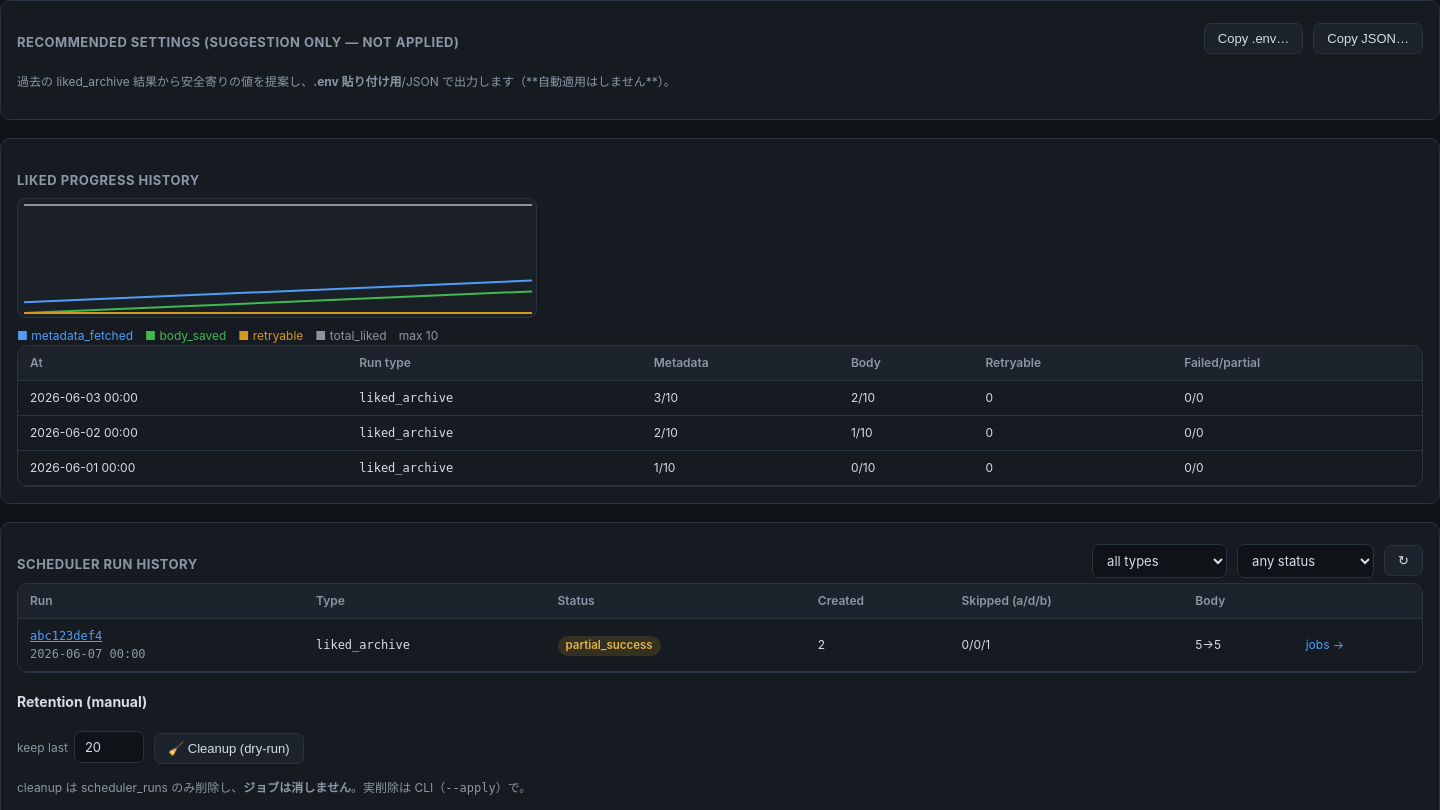
Test: Phase 7F scheduler history graph + export › cleanup dry-run reports it does not delete jobs
Expected: the heading "Retention (manual)" is shown, x1=17 y1=693 x2=147 y2=710
Click the button "🧹 Cleanup (dry-run)".
click(229, 749)  # box x1=154 y1=733 x2=304 y2=764
(page scrolled)
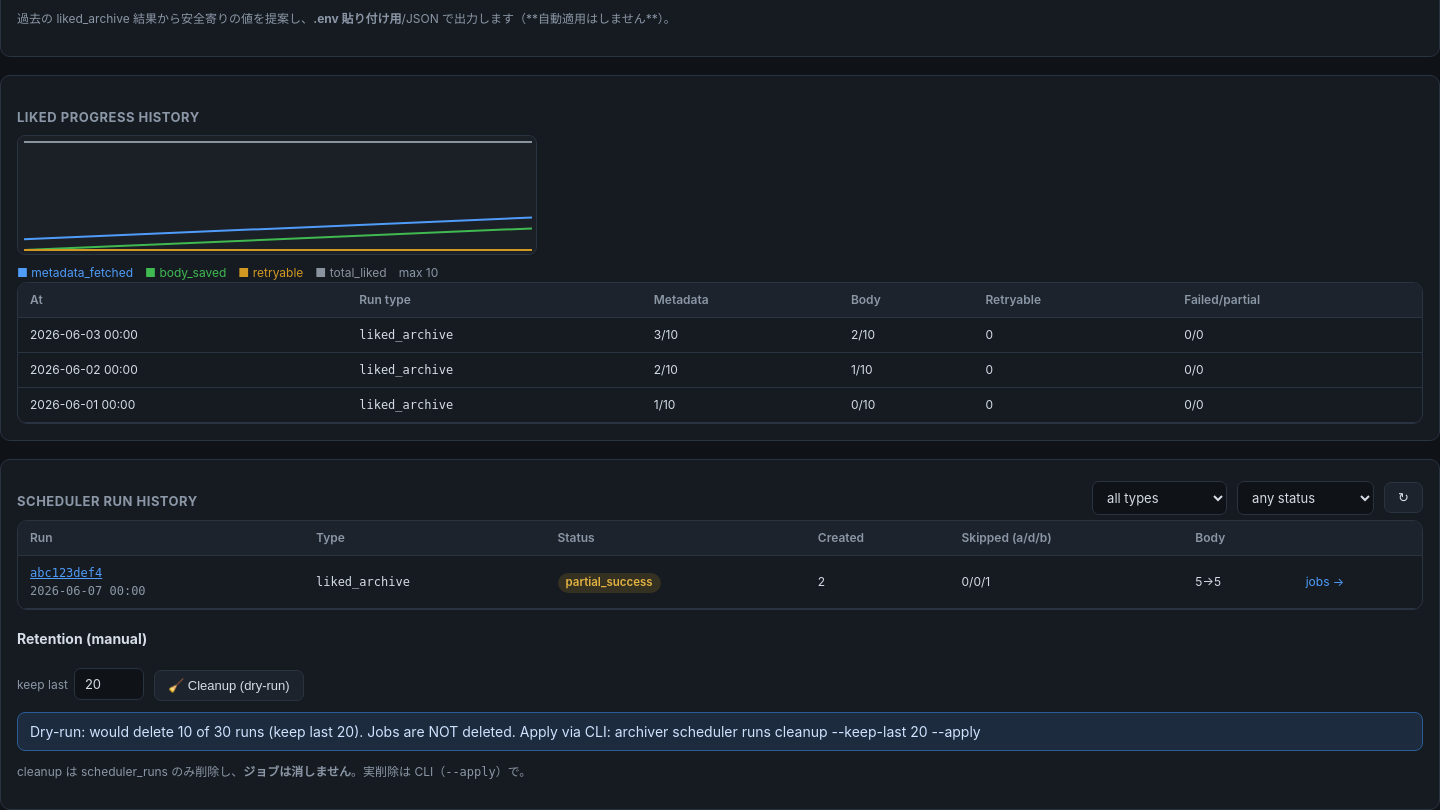
Result: the text "Jobs are NOT deleted" is shown at x1=30 y1=723 x2=981 y2=740
